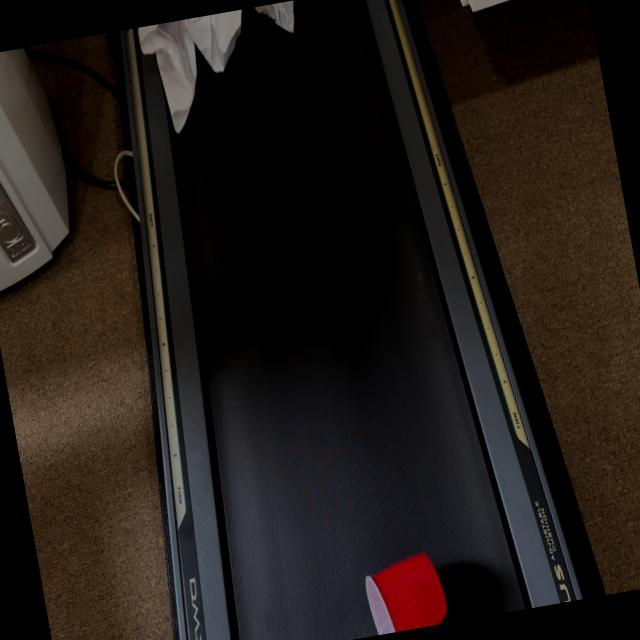Recycle: (134, 0, 315, 140), (360, 543, 450, 634)
